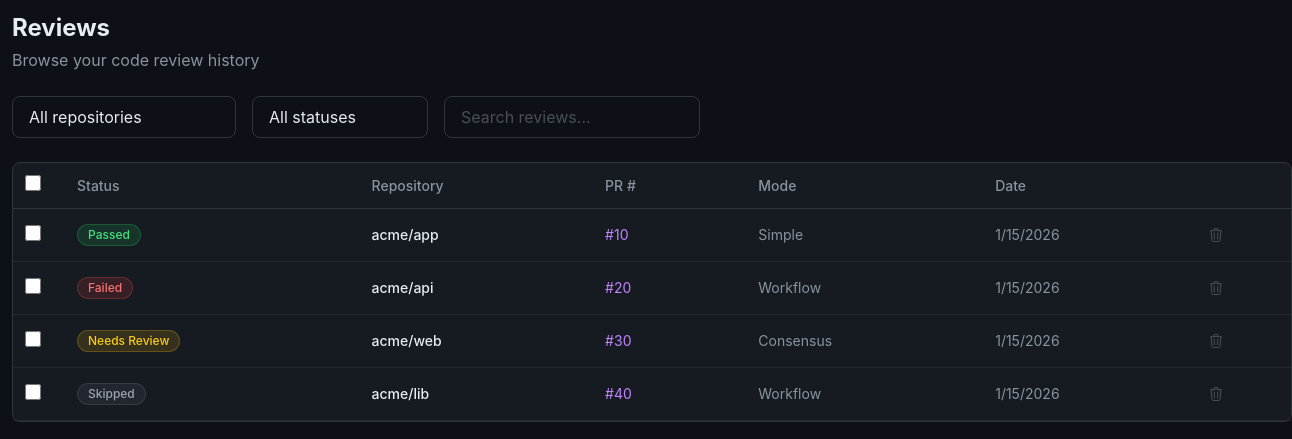
it: Reviews — search filter › filters reviews by repo name
The image size is (1292, 439).
Type "acme/api" into the field with placeholder "Search reviews..." at (572, 117), box [444,96,700,138]
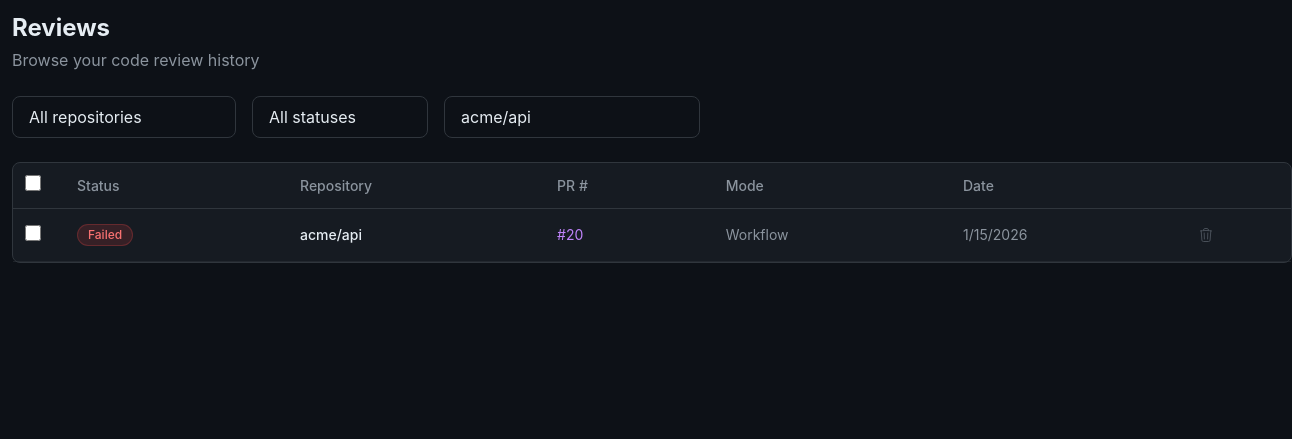
Check: the text "acme/api" is shown, box [276,208,533,262]
Check: the text "acme/app" is gone
Check: the text "acme/web" is gone
